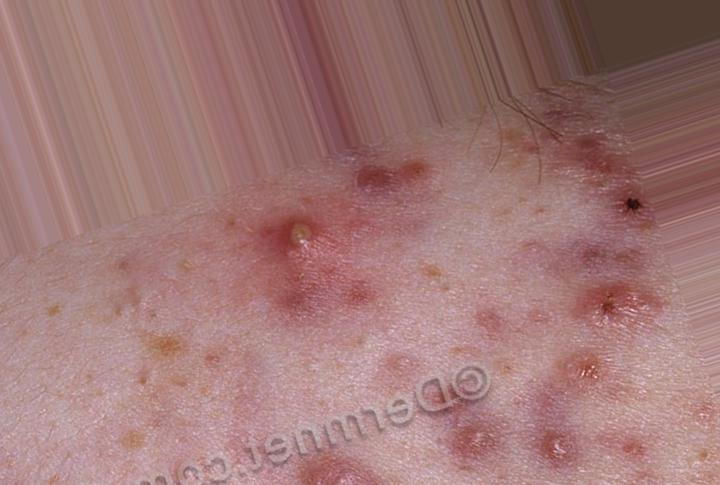Acne: (274, 186, 369, 306), (561, 269, 676, 356), (344, 146, 437, 230), (421, 401, 499, 472), (519, 404, 590, 481)
